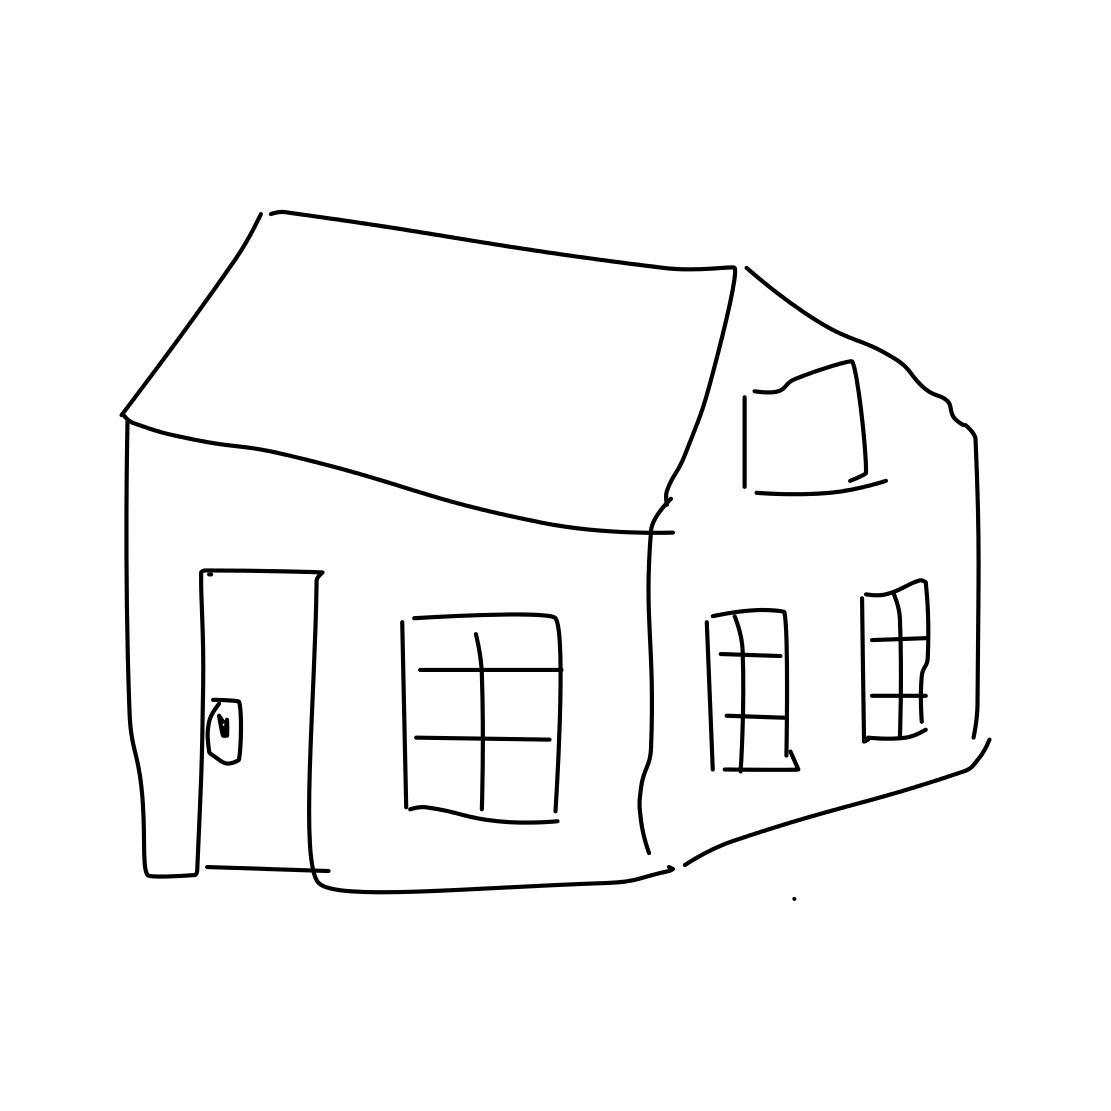House: (42, 152, 1025, 901)
